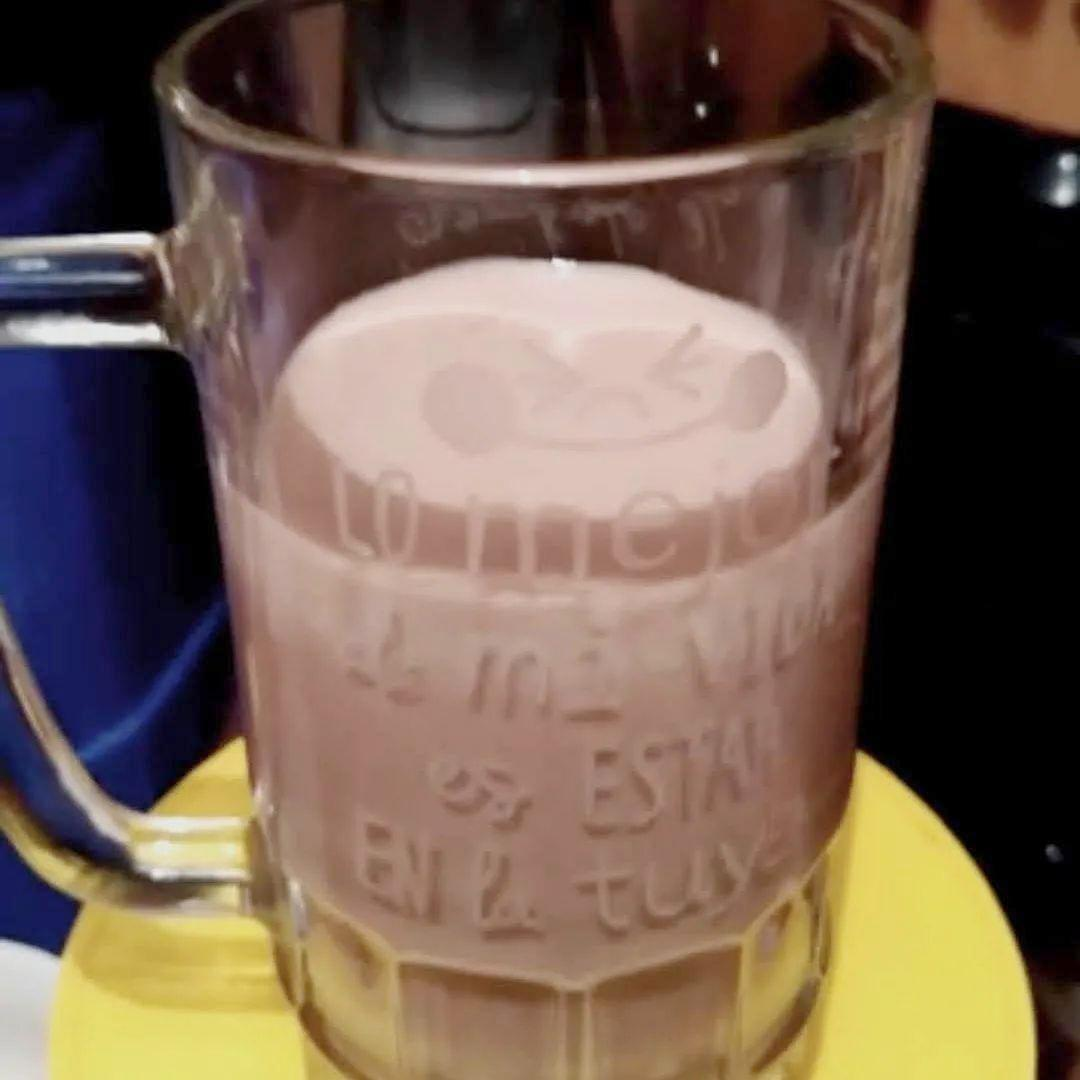glass-mug: (0, 0, 961, 1080)
